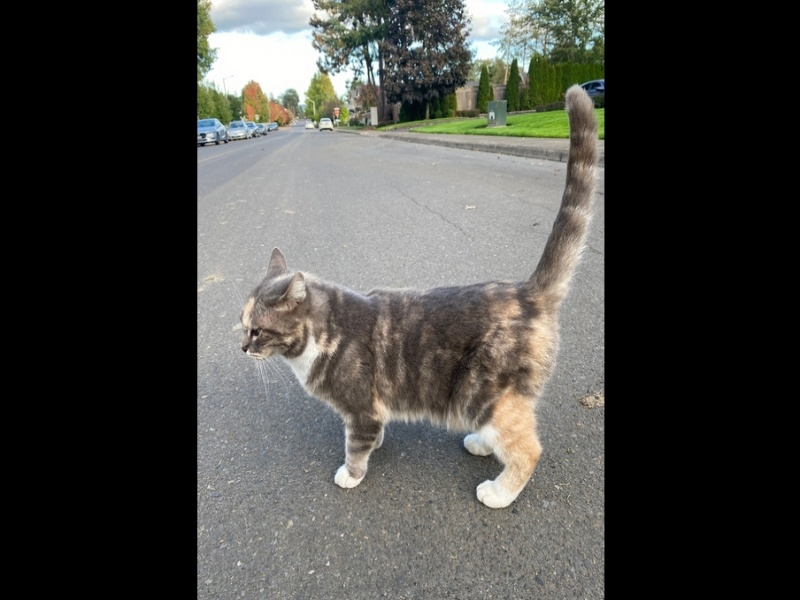cat: (238, 83, 595, 511)
